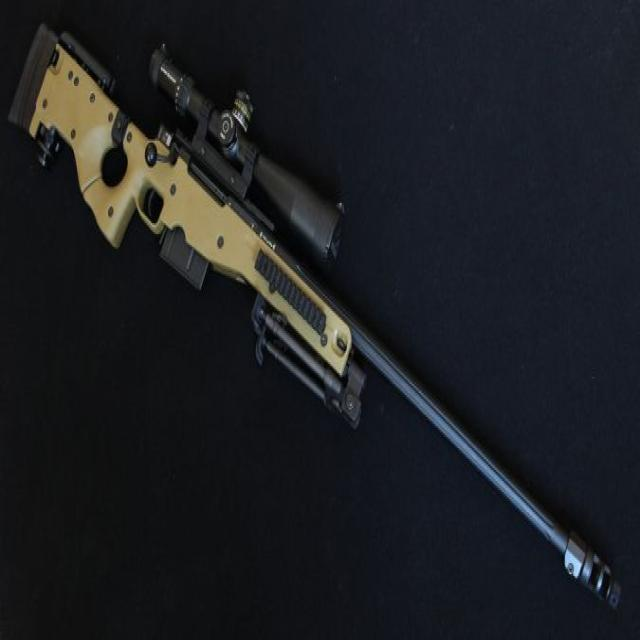Rifle: (8, 26, 623, 611)
